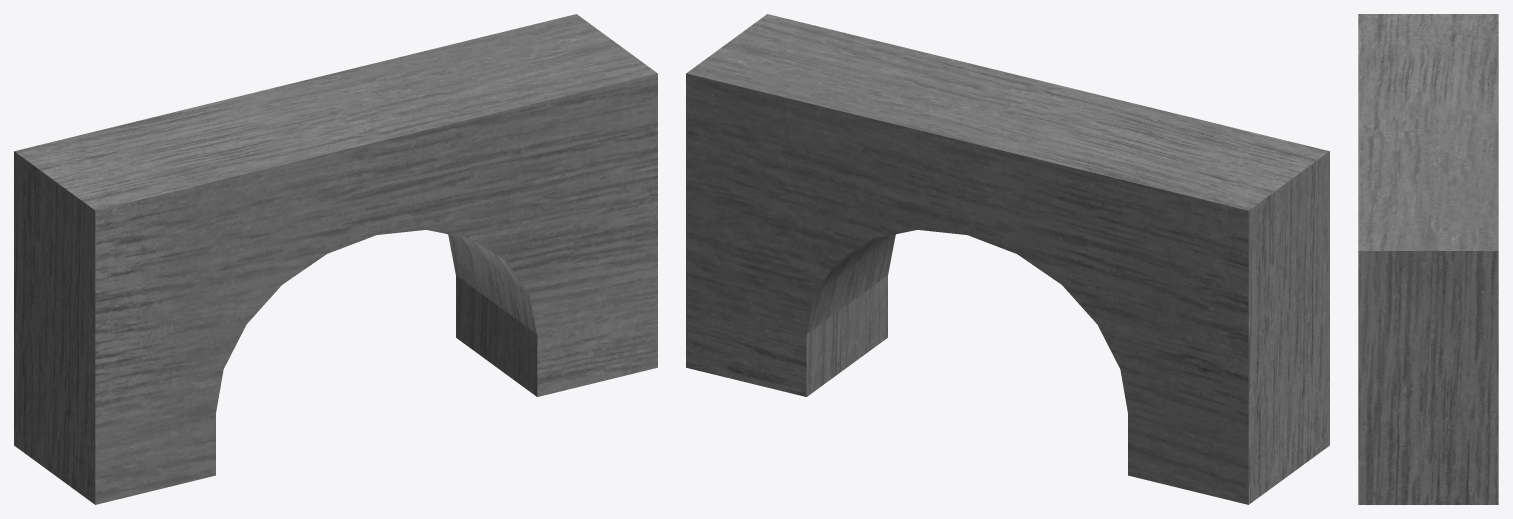
The model's file is Curveblock.obj.
3 views of the same model, side by side, from view 1: azimuth 30°, elevation 25°; view 2: azimuth 150°, elevation 25°; view 3: azimuth 270°, elevation 25° (orthographic). The views are drawn at different scales.
Parts seen in each view (by area): view 1: pCube5; view 2: pCube5; view 3: pCube5.
Part boxes in pixels (x1,y1,x2,y2): pCube5: [14, 14, 657, 504]; pCube5: [686, 14, 1329, 504]; pCube5: [1358, 14, 1498, 504].
Size of the model in its own units: 400 by 200 by 100.
1 material, 1 textured.
